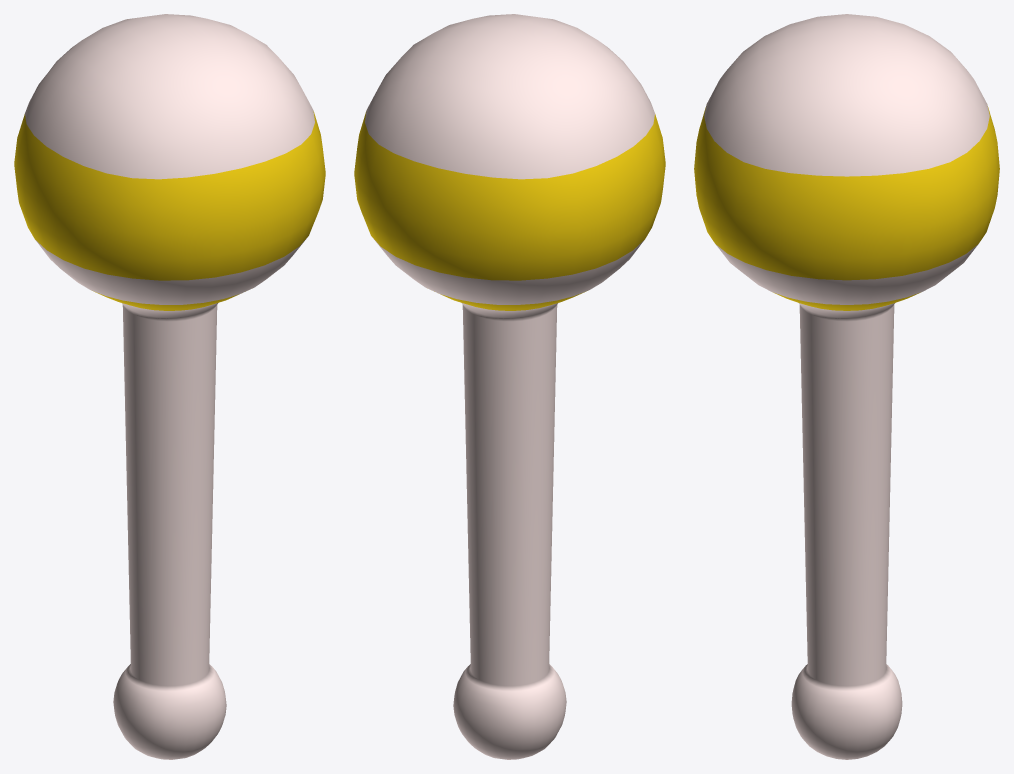
Rendered from Public_14_Skittle_3.glb.
3 views of the same model, side by side, from view 1: azimuth 30°, elevation 25°; view 2: azimuth 150°, elevation 25°; view 3: azimuth 270°, elevation 25° (orthographic).
Visible parts, largest first — view 1: Public_14_Skittle_3; view 2: Public_14_Skittle_3; view 3: Public_14_Skittle_3.
Boxes of the visible parts, bbox=[...] form: Public_14_Skittle_3: bbox=[14, 14, 325, 759]; Public_14_Skittle_3: bbox=[354, 14, 665, 759]; Public_14_Skittle_3: bbox=[694, 14, 999, 759].
Bounding box in the file's own units: 0.2979 × 0.7779 × 0.2979.
Materials: 1 (1 with a texture image).
